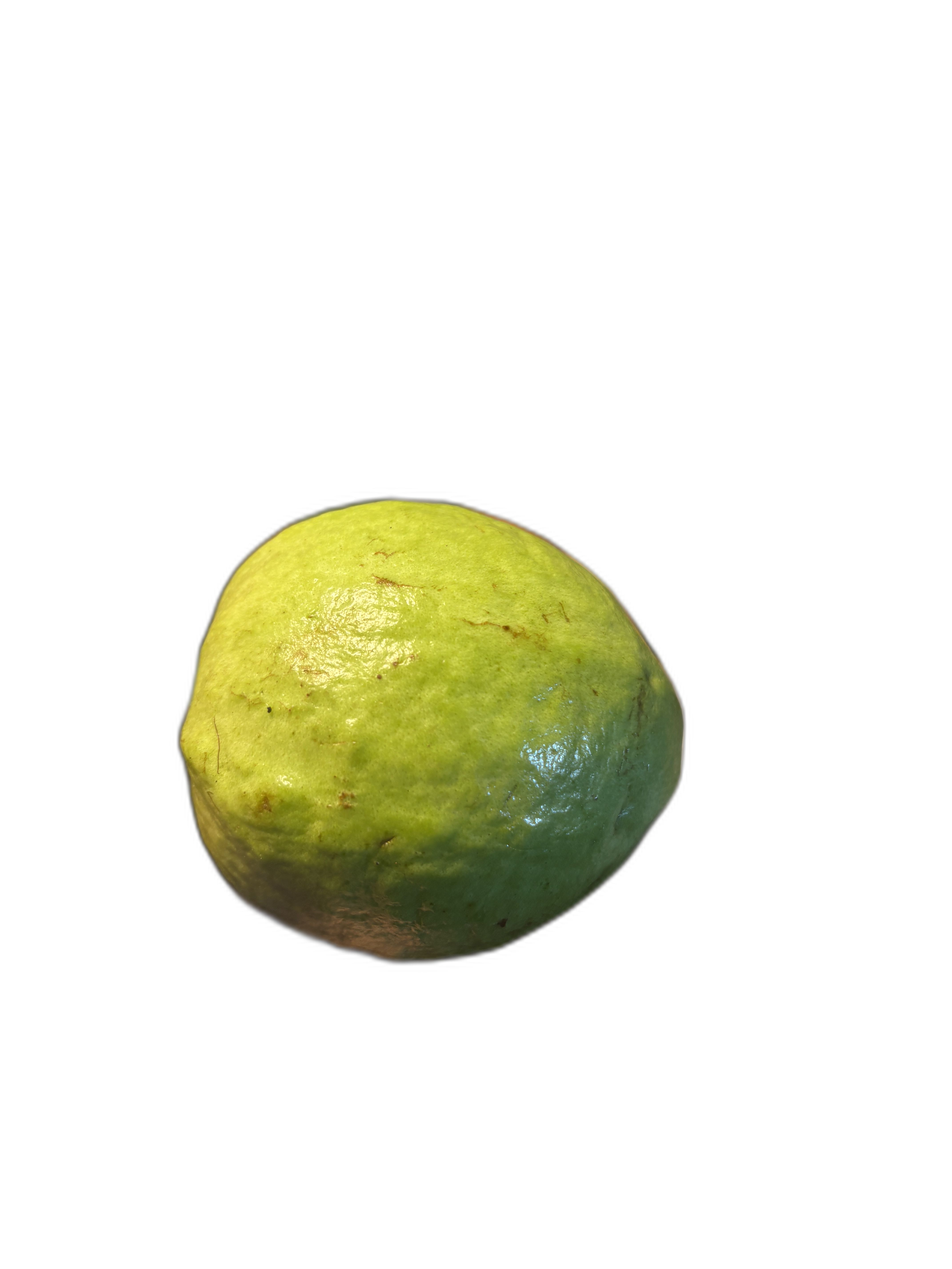guava: (94, 133, 776, 1269)
